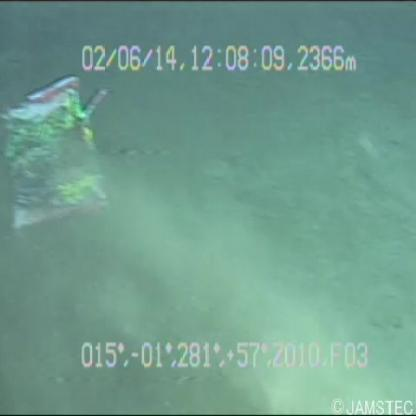Rác: (3, 66, 108, 232)
